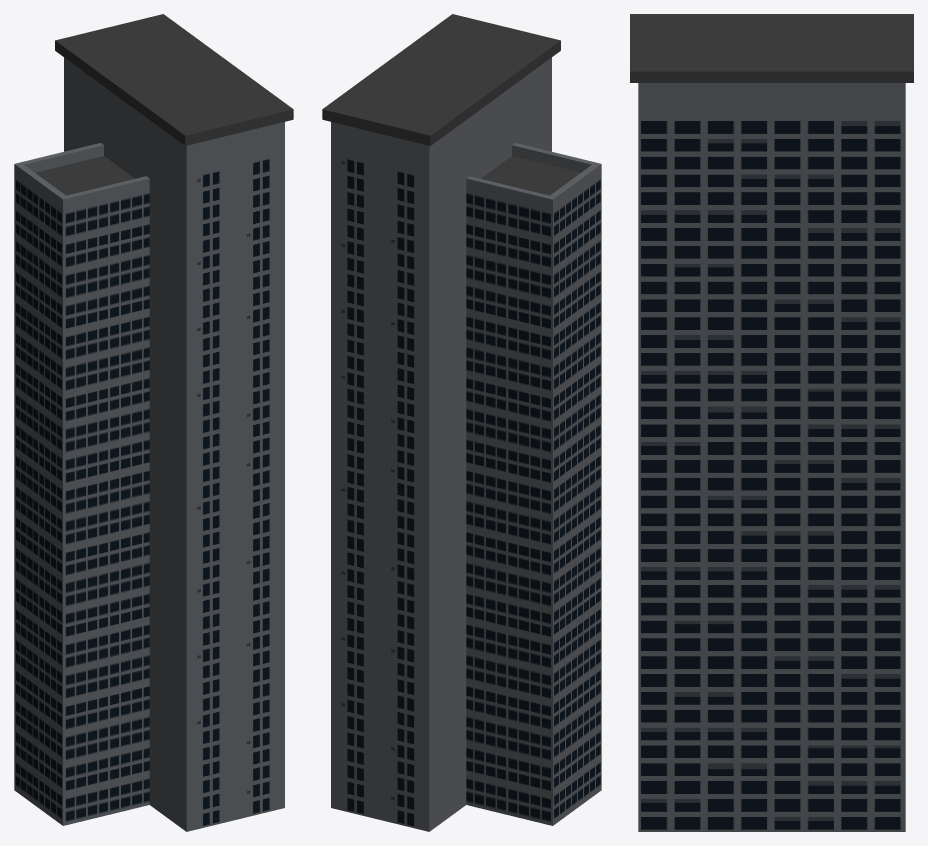
Rendered from SM_Env_Background_Building_04.fbx.
3 views of the same model, side by side, from view 1: azimuth 30°, elevation 25°; view 2: azimuth 150°, elevation 25°; view 3: azimuth 270°, elevation 25° (orthographic). The views are drawn at different scales.
Parts seen in each view (by area): view 1: SM_Env_Background_Building_04; view 2: SM_Env_Background_Building_04; view 3: SM_Env_Background_Building_04.
Part boxes in pixels (x1=…): SM_Env_Background_Building_04: x1=14, y1=14, x2=293, y2=831; SM_Env_Background_Building_04: x1=322, y1=14, x2=601, y2=831; SM_Env_Background_Building_04: x1=630, y1=14, x2=913, y2=831.
Size of the model in its own units: 2083 by 7341 by 2475.
